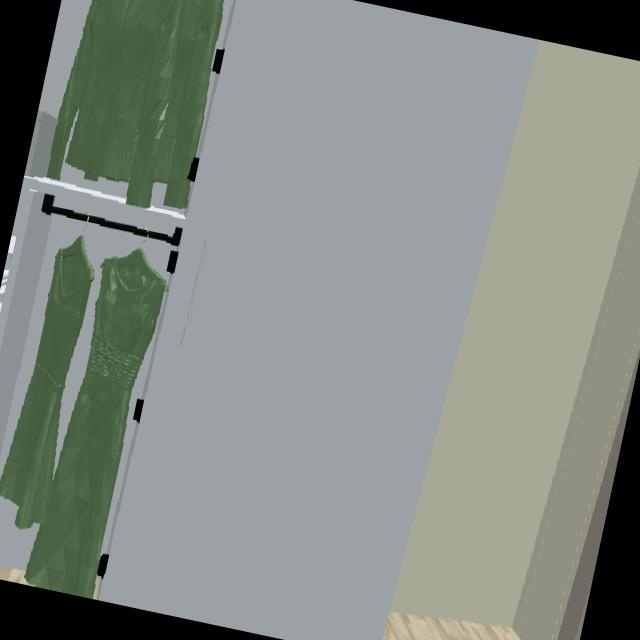wardrobe: (0, 0, 541, 640)
